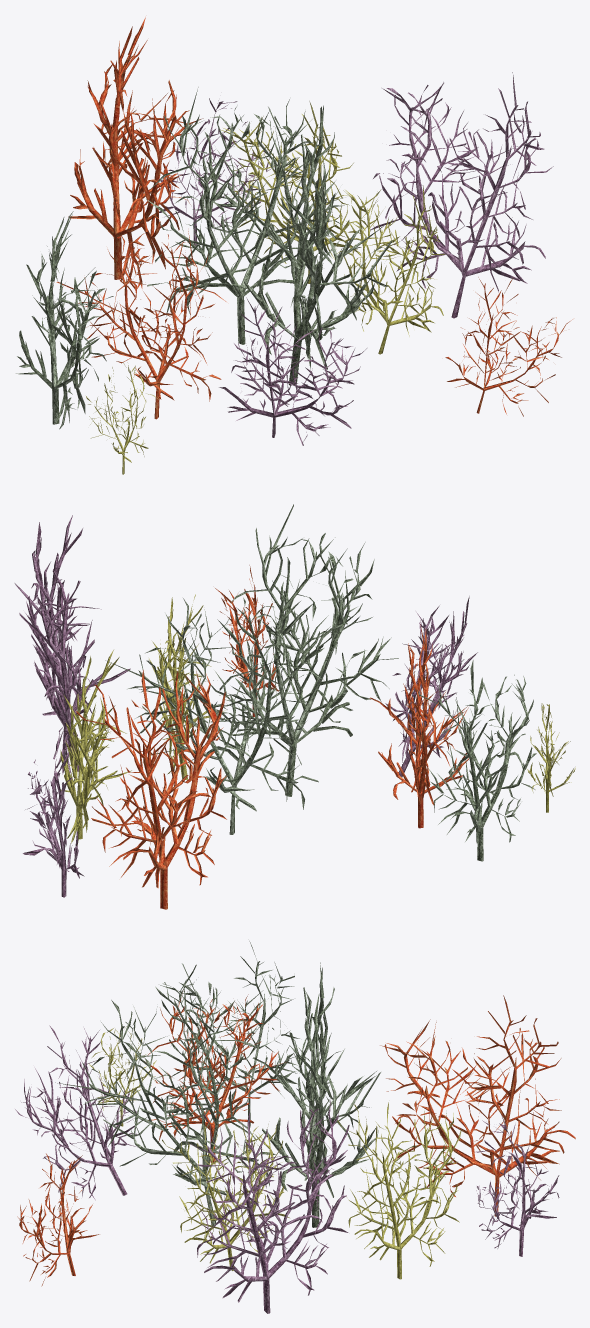
Rendered from coral-fan.glb.
3 views of the same model, one above another, from view 1: azimuth 30°, elevation 25°; view 2: azimuth 150°, elevation 25°; view 3: azimuth 270°, elevation 25° (orthographic). The views are drawn at different scales.
Visible parts, largest first — view 1: LOD0_FanCoralSkin_White_Mat_0_0, LOD0_FanCoralSkin_Violet_Mat_0_0, LOD0_FanCoralSkin_Orange_Mat_0_1, LOD0_FanCoralSkin_White_Mat_0_1, LOD0_FanCoralSkin_Orange_Mat_0_2, LOD0_FanCoralSkin_Violet_Mat_0_2, LOD0_FanCoralSkin_Yellow_Mat_0_0, LOD0_FanCoralSkin_Yellow_Mat_0_1, LOD0_FanCoralSkin_Orange_Mat_0_0, LOD0_FanCoralSkin_Violet_Mat_0_1, LOD0_FanCoralSkin_Yellow_Mat_0_2; view 2: LOD0_FanCoralSkin_White_Mat_0_0, LOD0_FanCoralSkin_Orange_Mat_0_1, LOD0_FanCoralSkin_Violet_Mat_0_0, LOD0_FanCoralSkin_White_Mat_0_1, LOD0_FanCoralSkin_Orange_Mat_0_2, LOD0_FanCoralSkin_Yellow_Mat_0_1, LOD0_FanCoralSkin_Violet_Mat_0_2, LOD0_FanCoralSkin_Violet_Mat_0_1, LOD0_FanCoralSkin_Yellow_Mat_0_0, LOD0_FanCoralSkin_Orange_Mat_0_0, LOD0_FanCoralSkin_Yellow_Mat_0_2; view 3: LOD0_FanCoralSkin_White_Mat_0_0, LOD0_FanCoralSkin_Violet_Mat_0_0, LOD0_FanCoralSkin_Orange_Mat_0_1, LOD0_FanCoralSkin_Yellow_Mat_0_1, LOD0_FanCoralSkin_Violet_Mat_0_2, LOD0_FanCoralSkin_Orange_Mat_0_2, LOD0_FanCoralSkin_White_Mat_0_1, LOD0_FanCoralSkin_Yellow_Mat_0_0, LOD0_FanCoralSkin_Violet_Mat_0_1, LOD0_FanCoralSkin_Orange_Mat_0_0, LOD0_FanCoralSkin_Yellow_Mat_0_2.
Part boxes in pixels (box(x1,y1,x2,y2)): LOD0_FanCoralSkin_White_Mat_0_0: box(146, 87, 392, 385); LOD0_FanCoralSkin_Violet_Mat_0_0: box(370, 72, 553, 318); LOD0_FanCoralSkin_Orange_Mat_0_1: box(68, 17, 203, 288); LOD0_FanCoralSkin_White_Mat_0_1: box(16, 211, 113, 429); LOD0_FanCoralSkin_Orange_Mat_0_2: box(56, 231, 226, 419); LOD0_FanCoralSkin_Violet_Mat_0_2: box(219, 297, 366, 445); LOD0_FanCoralSkin_Yellow_Mat_0_0: box(337, 185, 444, 354); LOD0_FanCoralSkin_Yellow_Mat_0_1: box(220, 101, 365, 283); LOD0_FanCoralSkin_Orange_Mat_0_0: box(445, 277, 572, 416); LOD0_FanCoralSkin_Violet_Mat_0_1: box(159, 98, 271, 245); LOD0_FanCoralSkin_Yellow_Mat_0_2: box(86, 362, 158, 474); LOD0_FanCoralSkin_White_Mat_0_0: box(105, 504, 398, 834); LOD0_FanCoralSkin_Orange_Mat_0_1: box(76, 670, 226, 909); LOD0_FanCoralSkin_Violet_Mat_0_0: box(14, 515, 130, 774); LOD0_FanCoralSkin_White_Mat_0_1: box(417, 660, 536, 861); LOD0_FanCoralSkin_Orange_Mat_0_2: box(369, 624, 469, 828); LOD0_FanCoralSkin_Yellow_Mat_0_1: box(60, 650, 131, 844); LOD0_FanCoralSkin_Violet_Mat_0_2: box(385, 596, 477, 777); LOD0_FanCoralSkin_Violet_Mat_0_1: box(23, 726, 84, 897); LOD0_FanCoralSkin_Yellow_Mat_0_0: box(149, 594, 225, 779); LOD0_FanCoralSkin_Orange_Mat_0_0: box(215, 565, 279, 716); LOD0_FanCoralSkin_Yellow_Mat_0_2: box(527, 703, 575, 812); LOD0_FanCoralSkin_White_Mat_0_0: box(55, 962, 380, 1227); LOD0_FanCoralSkin_Violet_Mat_0_0: box(183, 1100, 349, 1313); LOD0_FanCoralSkin_Orange_Mat_0_1: box(380, 995, 575, 1216); LOD0_FanCoralSkin_Yellow_Mat_0_1: box(337, 1102, 461, 1279); LOD0_FanCoralSkin_Violet_Mat_0_2: box(15, 1025, 138, 1200); LOD0_FanCoralSkin_Orange_Mat_0_2: box(144, 991, 285, 1164); LOD0_FanCoralSkin_White_Mat_0_1: box(160, 941, 310, 1127); LOD0_FanCoralSkin_Yellow_Mat_0_0: box(162, 1123, 289, 1270); LOD0_FanCoralSkin_Violet_Mat_0_1: box(474, 1115, 559, 1256); LOD0_FanCoralSkin_Orange_Mat_0_0: box(17, 1153, 99, 1286); LOD0_FanCoralSkin_Yellow_Mat_0_2: box(89, 1026, 156, 1126).
Size of the model in its own units: 0.1281 by 0.0694 by 0.1314.
4 materials, 4 textured.
